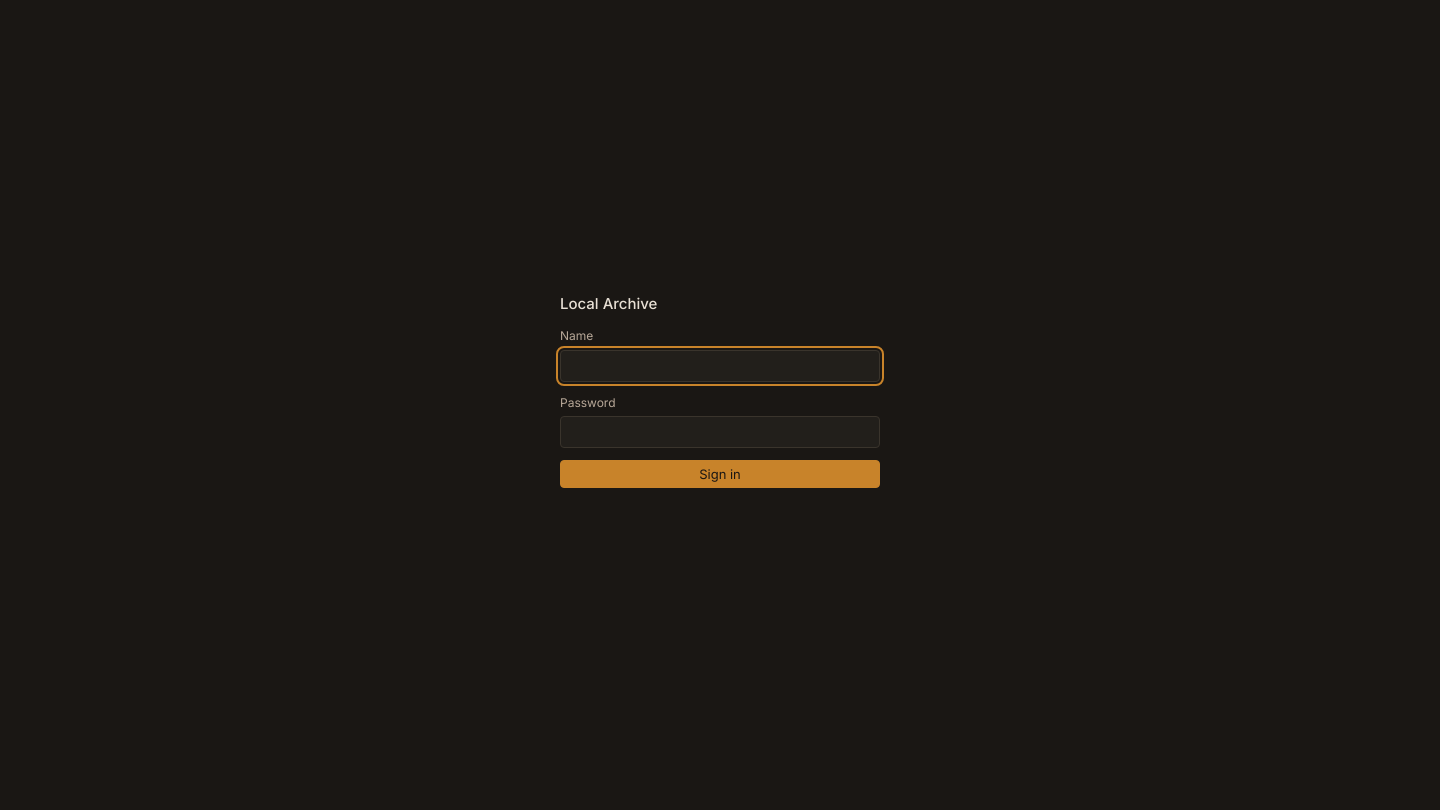
SignIn › a network failure says so rather than blaming the password
The width and height of the screenshot is (1440, 810).
Type "ana" into the field labelled "Name" at [720, 366], box [560,350,880,382]
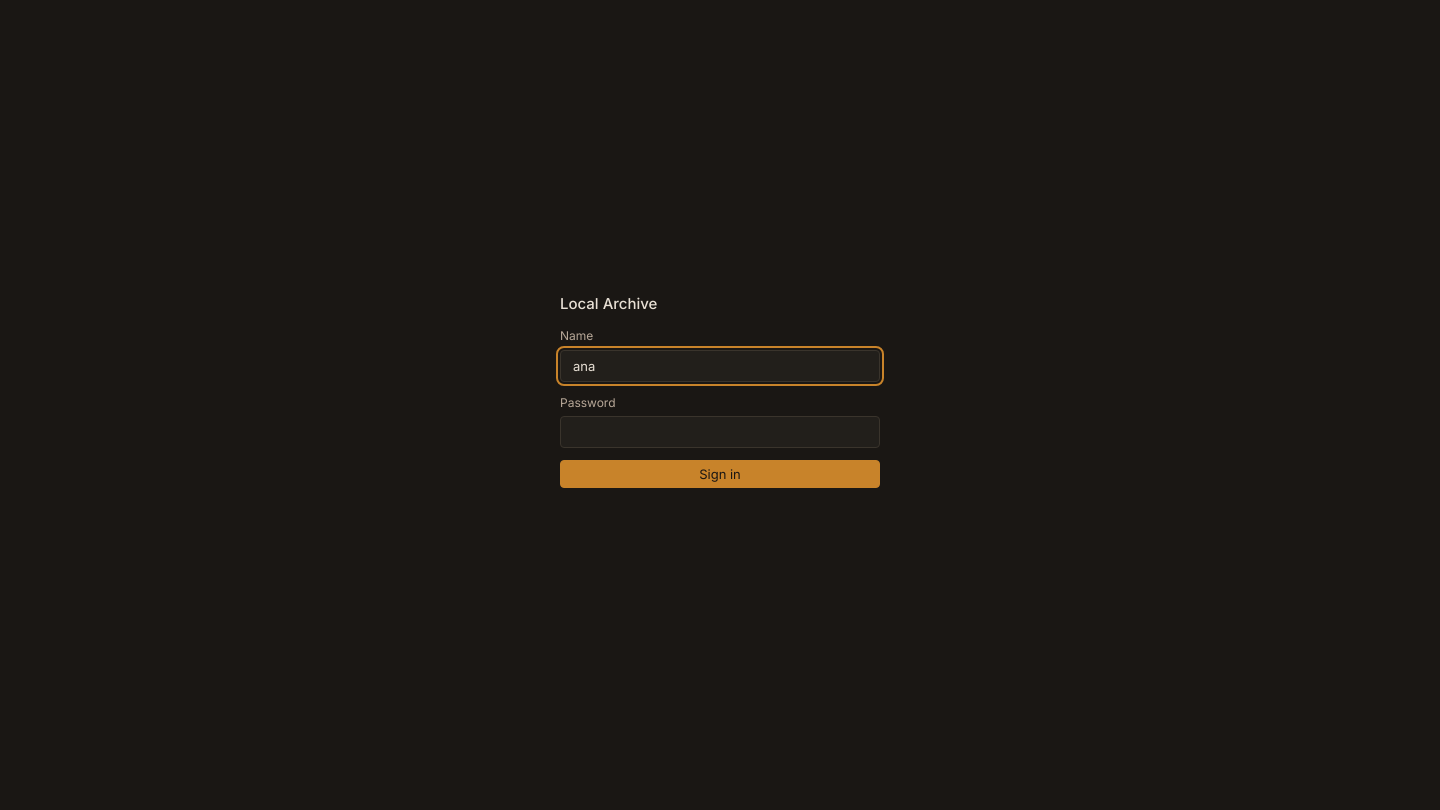
Type "pw" into the password field labelled "Password" at [720, 432], box [560,416,880,448]
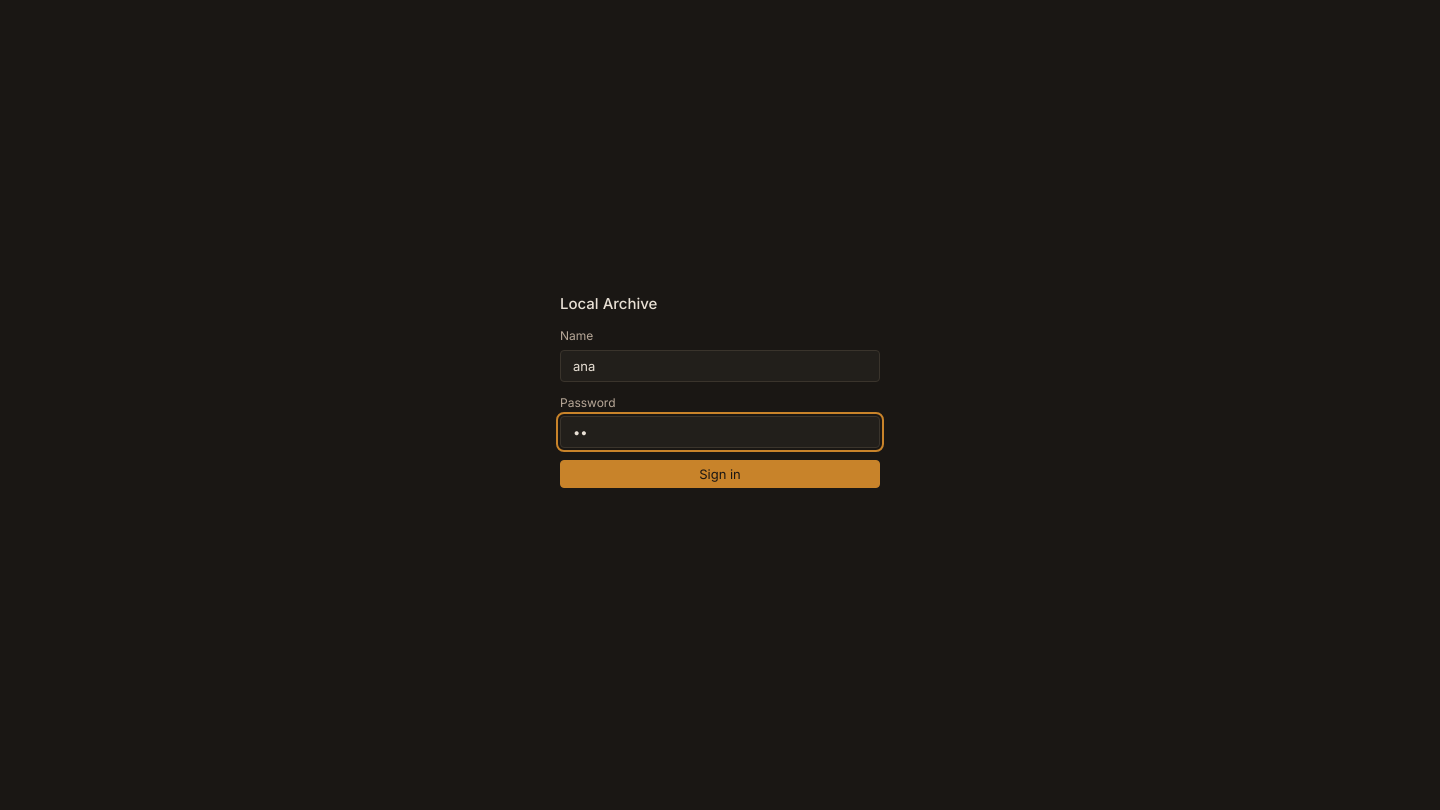
Click the button "Sign in" at [720, 474], box [560,460,880,488]
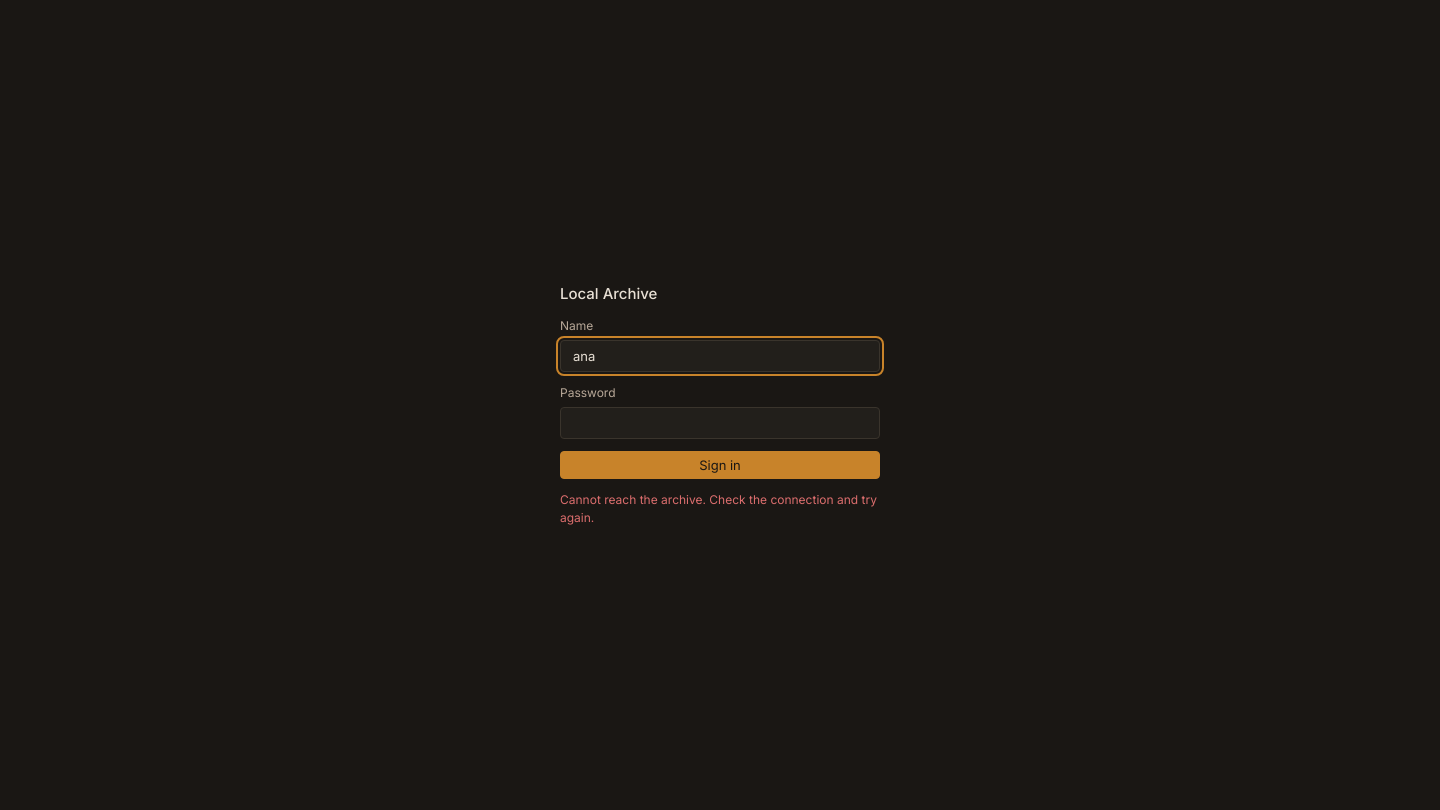
expect the message shows "Cannot reach the archive": met, box [560,492,877,525]
